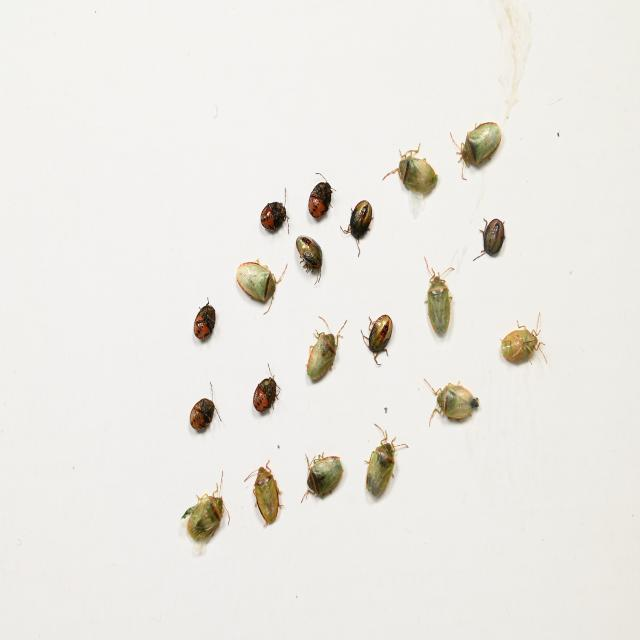stinkbug: (180, 470, 230, 555), (365, 421, 408, 500), (381, 141, 438, 200), (450, 122, 502, 180), (306, 313, 348, 384), (242, 460, 283, 532), (234, 260, 287, 314), (423, 256, 452, 337), (301, 452, 344, 505)
